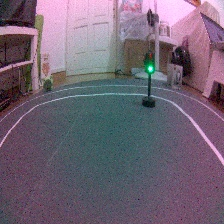green: (140, 50, 158, 109)
